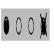correct: (3, 15, 10, 36)
not correct: (39, 8, 48, 41)
